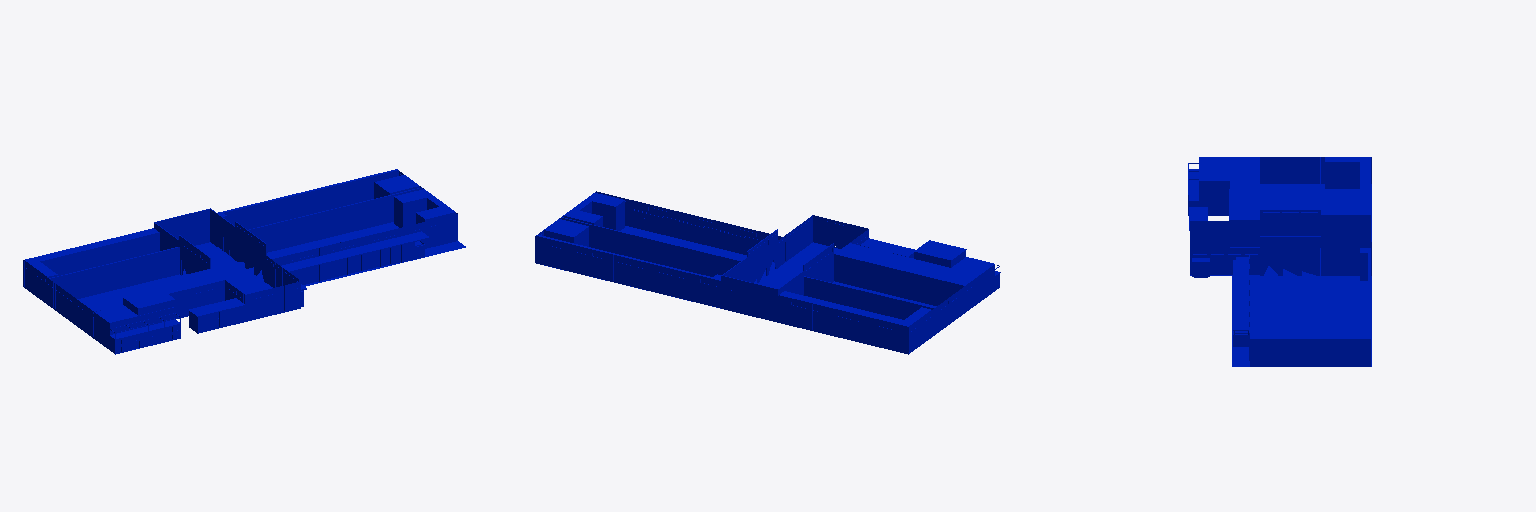
The model's file is 拆uv厂房.obj.
3 renders of one model, left to right at view 1: azimuth 30°, elevation 25°; view 2: azimuth 150°, elevation 25°; view 3: azimuth 270°, elevation 25°, orthographic.
Parts seen in each view (by area): view 1: 装配间_2_Mesh; view 2: 装配间_2_Mesh; view 3: 装配间_2_Mesh.
Boxes of the visible parts, box(x1,y1,x2,y2) form: 装配间_2_Mesh: box(23, 169, 465, 354); 装配间_2_Mesh: box(535, 191, 1000, 354); 装配间_2_Mesh: box(1188, 157, 1371, 366).
Bounding box in the file's own units: 310 × 30.77 × 132.